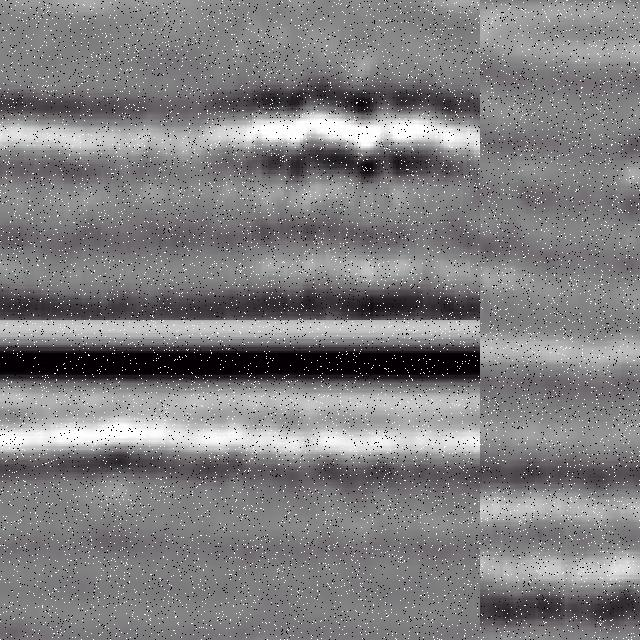crack: (481, 64, 502, 319)
